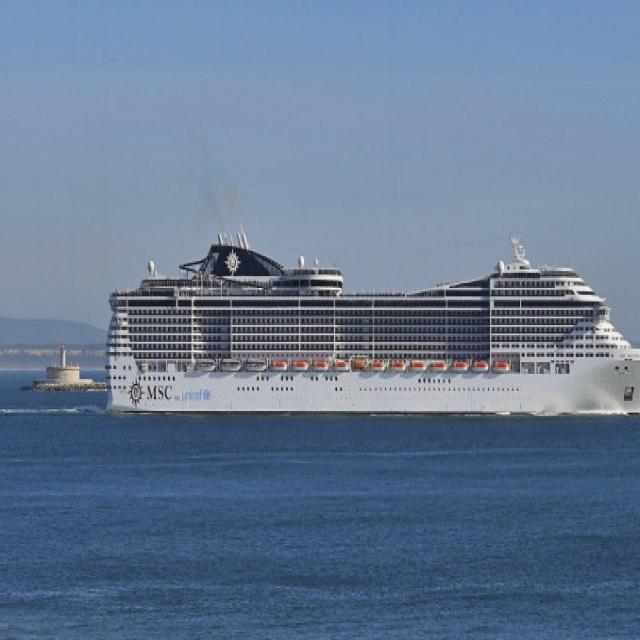cruises: (96, 222, 640, 427)
